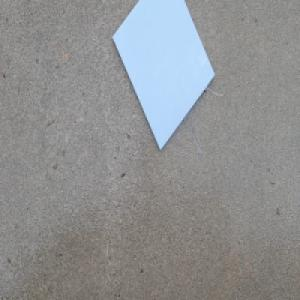PaintChip: (111, 0, 216, 150)
